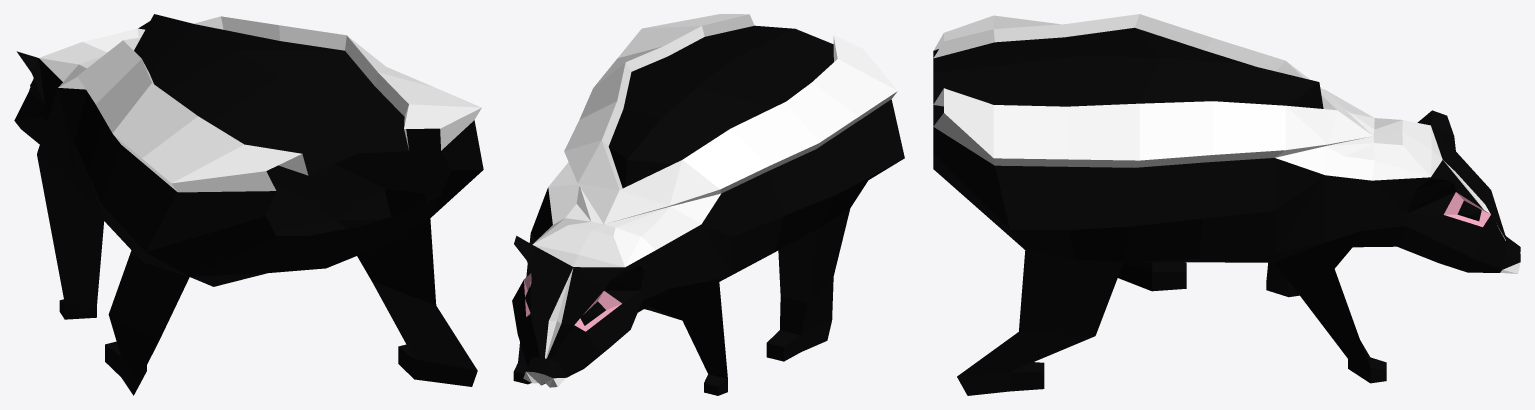
Rendered from moufsakaBod.obj.
The picture shows the model from 3 angles, left to right: view 1: azimuth 30°, elevation 25°; view 2: azimuth 150°, elevation 25°; view 3: azimuth 270°, elevation 25°; orthographic projection. The views are drawn at different scales.
Parts seen in each view (by area): view 1: Muffa_Cube.001_Muffa_Cube.001_black-fur, Muffa_Cube.001_Muffa_Cube.001_white-fur; view 2: Muffa_Cube.001_Muffa_Cube.001_black-fur, Muffa_Cube.001_Muffa_Cube.001_white-fur, Muffa_Cube.001_Muffa_Cube.001_dark-light-fur, Muffa_Cube.001_Muffa_Cube.001_nose; view 3: Muffa_Cube.001_Muffa_Cube.001_black-fur, Muffa_Cube.001_Muffa_Cube.001_white-fur, Muffa_Cube.001_Muffa_Cube.001_dark-light-fur.
Part boxes in pixels (box(x1,y1,x2,y2)): Muffa_Cube.001_Muffa_Cube.001_black-fur: box(14, 14, 483, 395); Muffa_Cube.001_Muffa_Cube.001_white-fur: box(39, 16, 481, 192); Muffa_Cube.001_Muffa_Cube.001_black-fur: box(512, 25, 904, 395); Muffa_Cube.001_Muffa_Cube.001_white-fur: box(532, 14, 897, 358); Muffa_Cube.001_Muffa_Cube.001_dark-light-fur: box(524, 273, 621, 331); Muffa_Cube.001_Muffa_Cube.001_nose: box(523, 371, 566, 387); Muffa_Cube.001_Muffa_Cube.001_black-fur: box(933, 27, 1520, 395); Muffa_Cube.001_Muffa_Cube.001_white-fur: box(933, 14, 1505, 240); Muffa_Cube.001_Muffa_Cube.001_dark-light-fur: box(1443, 192, 1490, 226).
Bounding box in the file's own units: 1.82 × 1.53 × 2.91.
4 materials, 4 textured.
